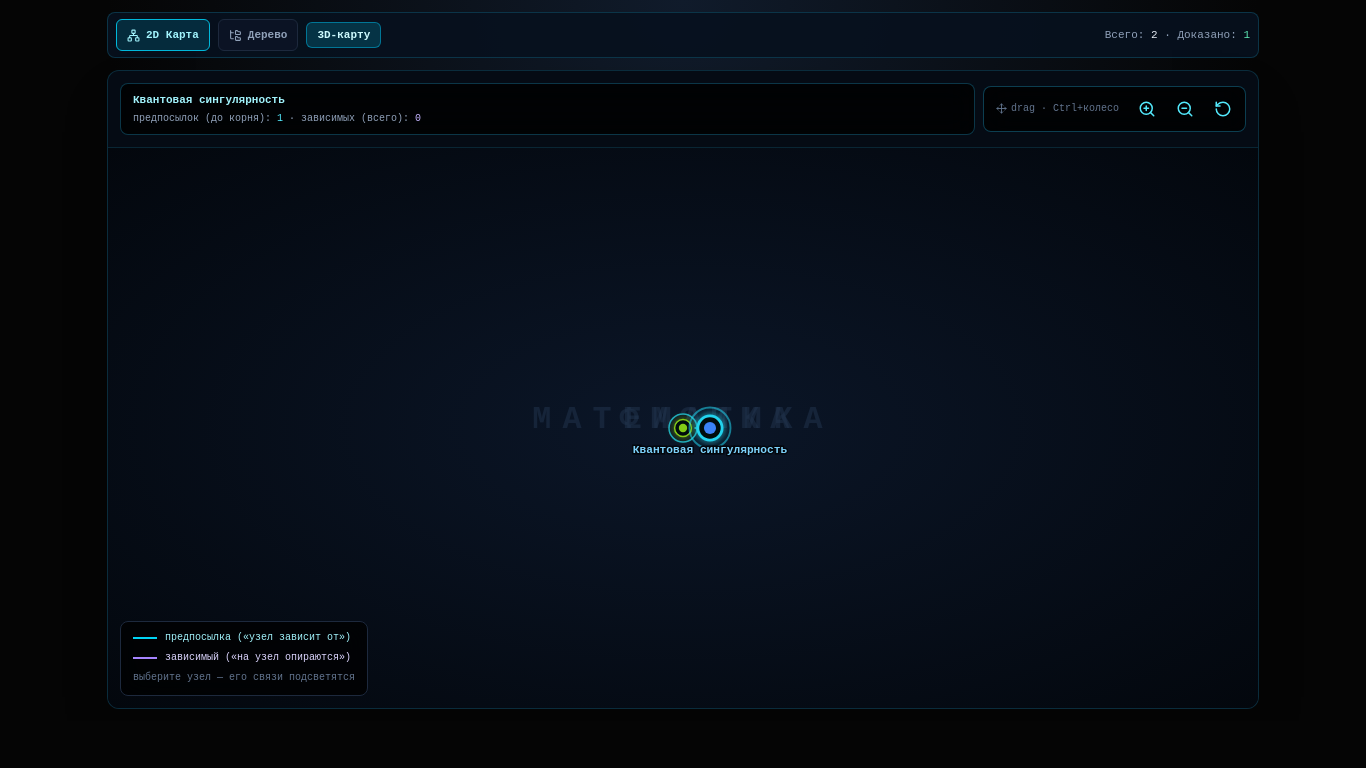
Test: AccessibleMapFallback Component › tree view auto-expands the zone of the selected node
The image size is (1366, 768).
Click the button "Дерево" at (258, 35), box left=218, top=19, right=298, bottom=51
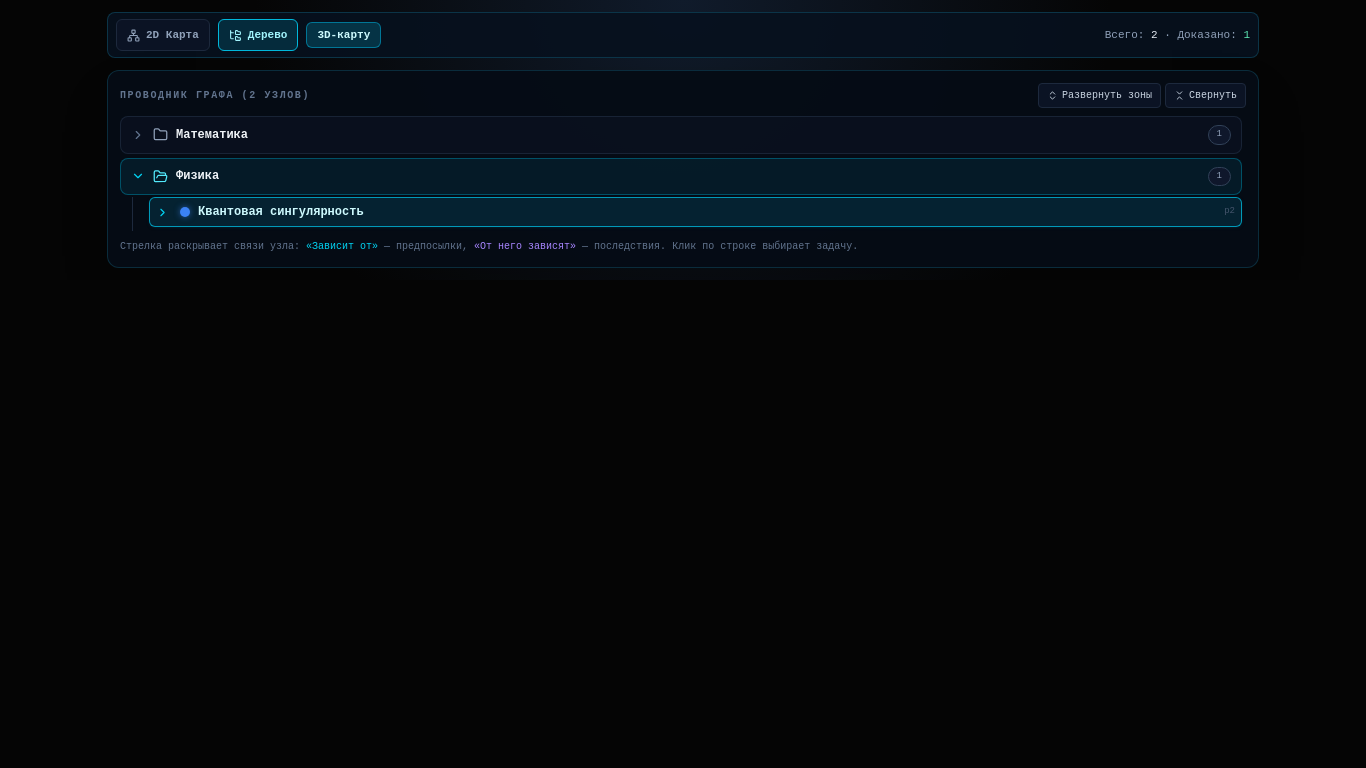
Now the button with test id "tree-node-p2" is shown, box left=174, top=198, right=1241, bottom=226
